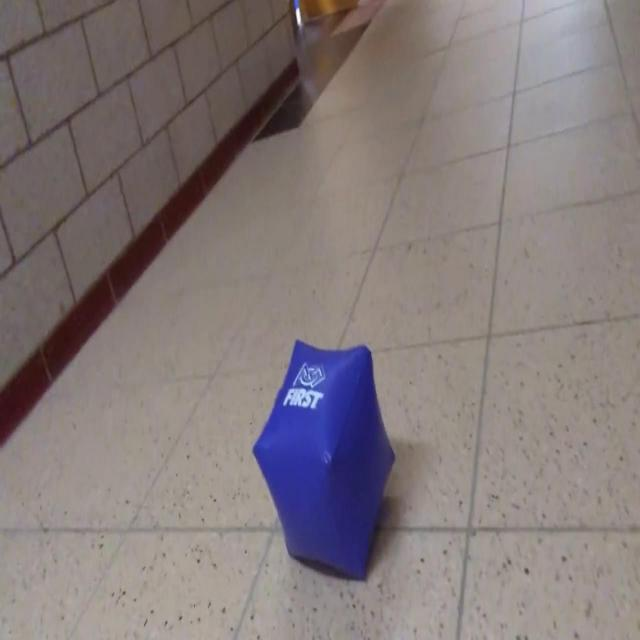frc_cube: (253, 336, 395, 587)
